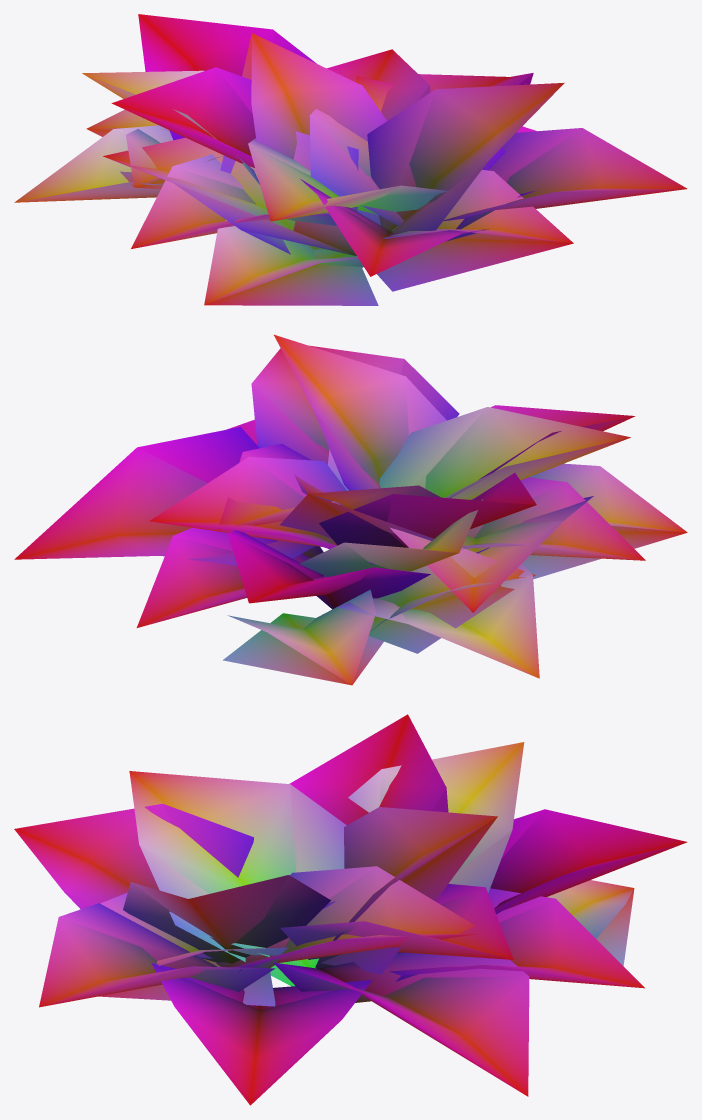
The model's file is broadfern_01_bunch_a.dae.
The picture shows the model from 3 angles, top to bottom: view 1: azimuth 30°, elevation 25°; view 2: azimuth 150°, elevation 25°; view 3: azimuth 270°, elevation 25°; orthographic projection. The views are drawn at different scales.
Visible parts, largest first — view 1: broadfern128, broadfern8; view 2: broadfern128, broadfern8; view 3: broadfern128, broadfern8.
Part boxes in pixels (x1=…): broadfern128: x1=14, y1=14, x2=687, y2=305; broadfern8: x1=15, y1=30, x2=686, y2=305; broadfern128: x1=14, y1=334, x2=687, y2=684; broadfern8: x1=137, y1=359, x2=686, y2=685; broadfern128: x1=14, y1=714, x2=687, y2=1105; broadfern8: x1=41, y1=769, x2=686, y2=1104.
Bounding box in the file's own units: 2.67 × 2.73 × 0.7855.
